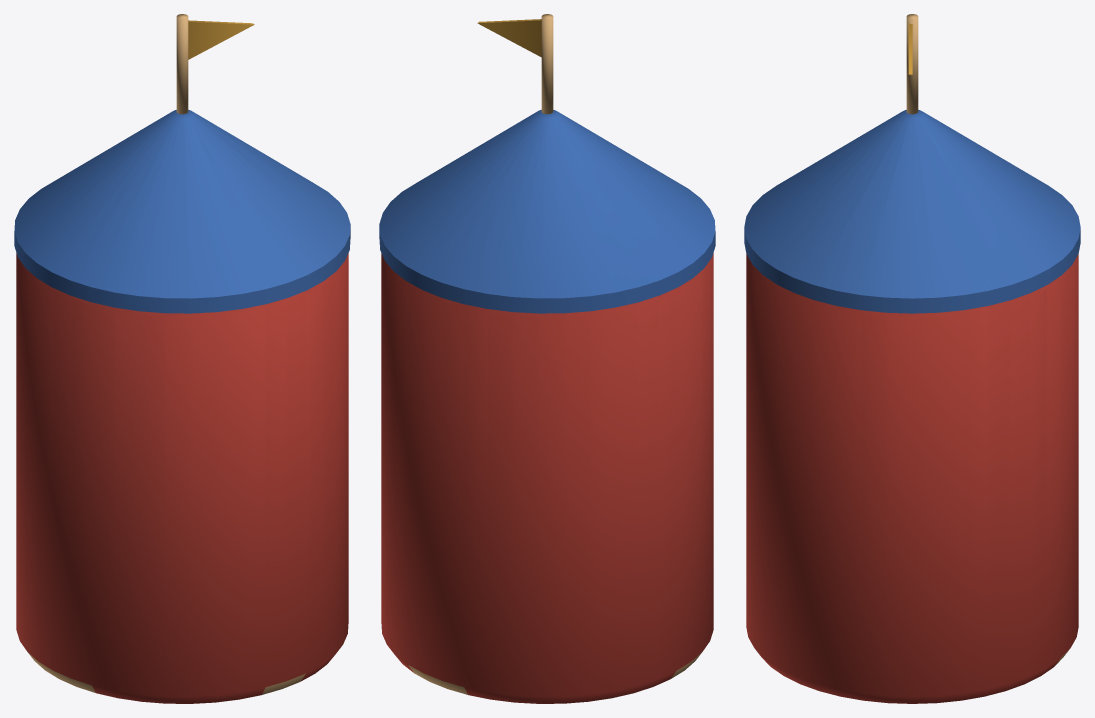
File: den_castle_tower.glb
3 views of the same model, side by side, from view 1: azimuth 30°, elevation 25°; view 2: azimuth 150°, elevation 25°; view 3: azimuth 270°, elevation 25° (orthographic).
Parts seen in each view (by area): view 1: den_castle_tower; view 2: den_castle_tower; view 3: den_castle_tower.
Boxes of the visible parts, bbox=[...] form: den_castle_tower: bbox=[14, 14, 350, 703]; den_castle_tower: bbox=[379, 14, 715, 703]; den_castle_tower: bbox=[744, 14, 1080, 703].
Bounding box in the file's own units: 3.44 × 7 × 3.44.
